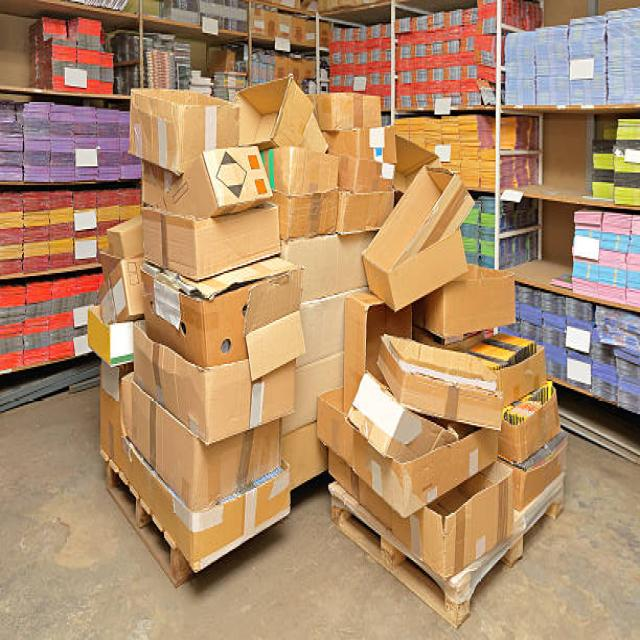Wooden-Pallets: (329, 483, 567, 630), (104, 456, 180, 599)
